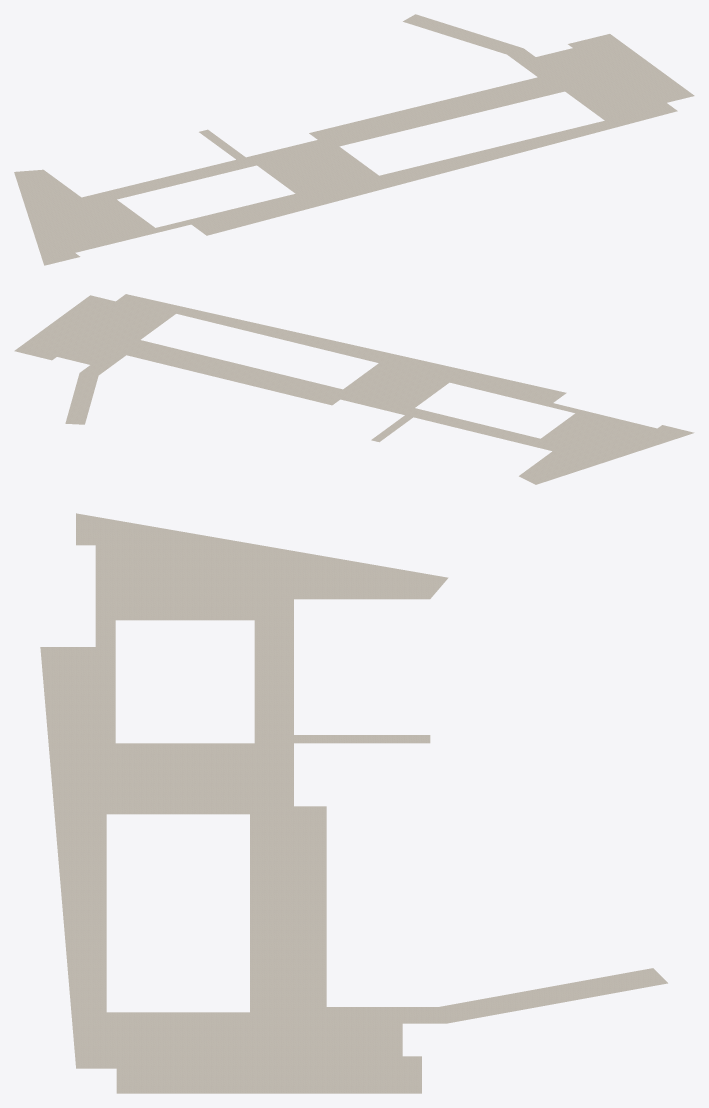
Rendered from Asfalto.glb.
3 views of the same model, one above another, from view 1: azimuth 30°, elevation 25°; view 2: azimuth 150°, elevation 25°; view 3: azimuth 270°, elevation 25° (orthographic). The views are drawn at different scales.
Parts seen in each view (by area): view 1: Asfalto_non_percorribile.001; view 2: Asfalto_non_percorribile.001; view 3: Asfalto_non_percorribile.001.
Part boxes in pixels (x1=…): Asfalto_non_percorribile.001: x1=14, y1=14, x2=694, y2=265; Asfalto_non_percorribile.001: x1=14, y1=294, x2=694, y2=484; Asfalto_non_percorribile.001: x1=40, y1=513, x2=667, y2=1093.
Bounding box in the file's own units: 230 × 1.77e-05 × 105.
1 material, 1 textured.
